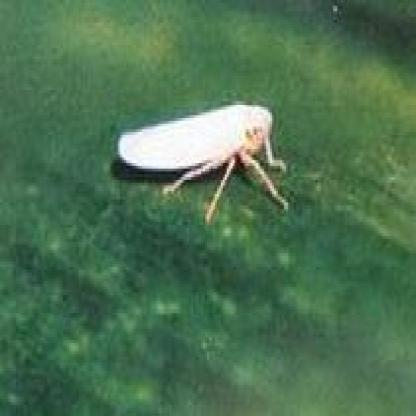Green-Leafhopper: (114, 89, 291, 219)
